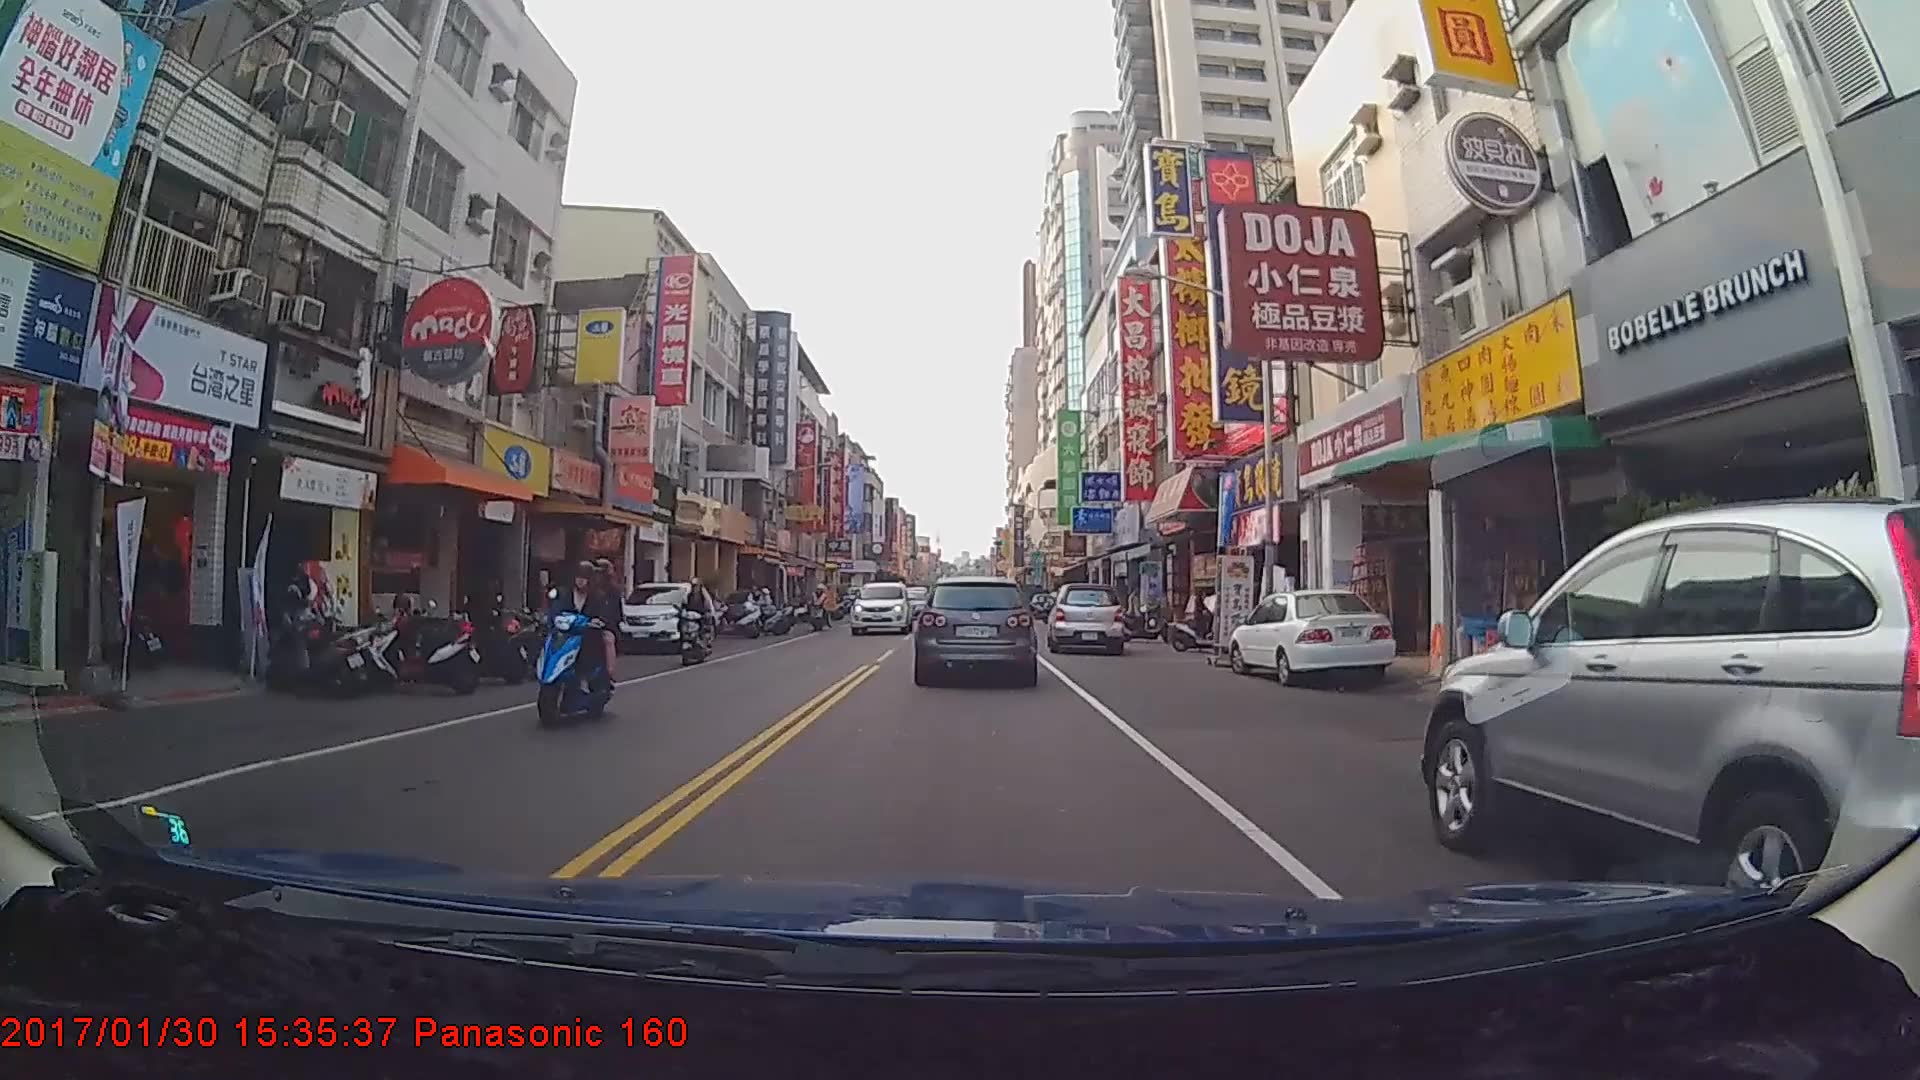rider: (535, 551, 626, 732), (1172, 585, 1235, 653), (678, 571, 716, 661)
vehicle: (1423, 504, 1920, 974), (1229, 584, 1396, 681), (918, 574, 1035, 683), (602, 580, 717, 654), (1046, 581, 1124, 652), (849, 578, 914, 635)
